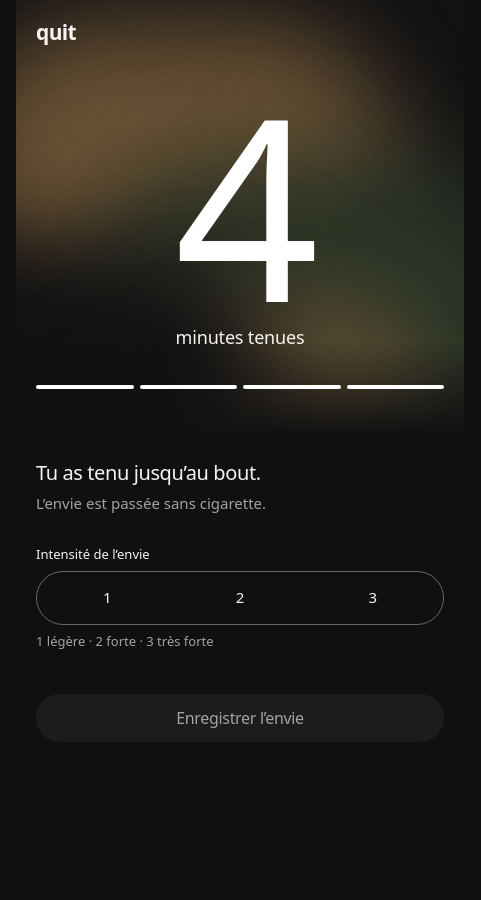
Test: tags › offers the tags only once the intensity is picked
expect the element "La situation" is not shown: met
Click the button "2" at (240, 598), box [174,576,306,620]
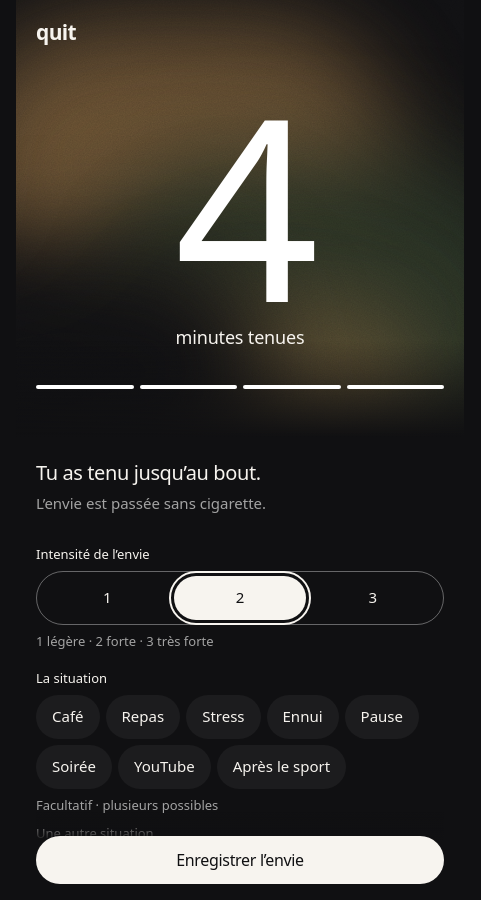
expect the element named "La situation" is shown: met, box [36,695,444,789]
expect the button "Café" is shown: met, box [36,695,100,739]
